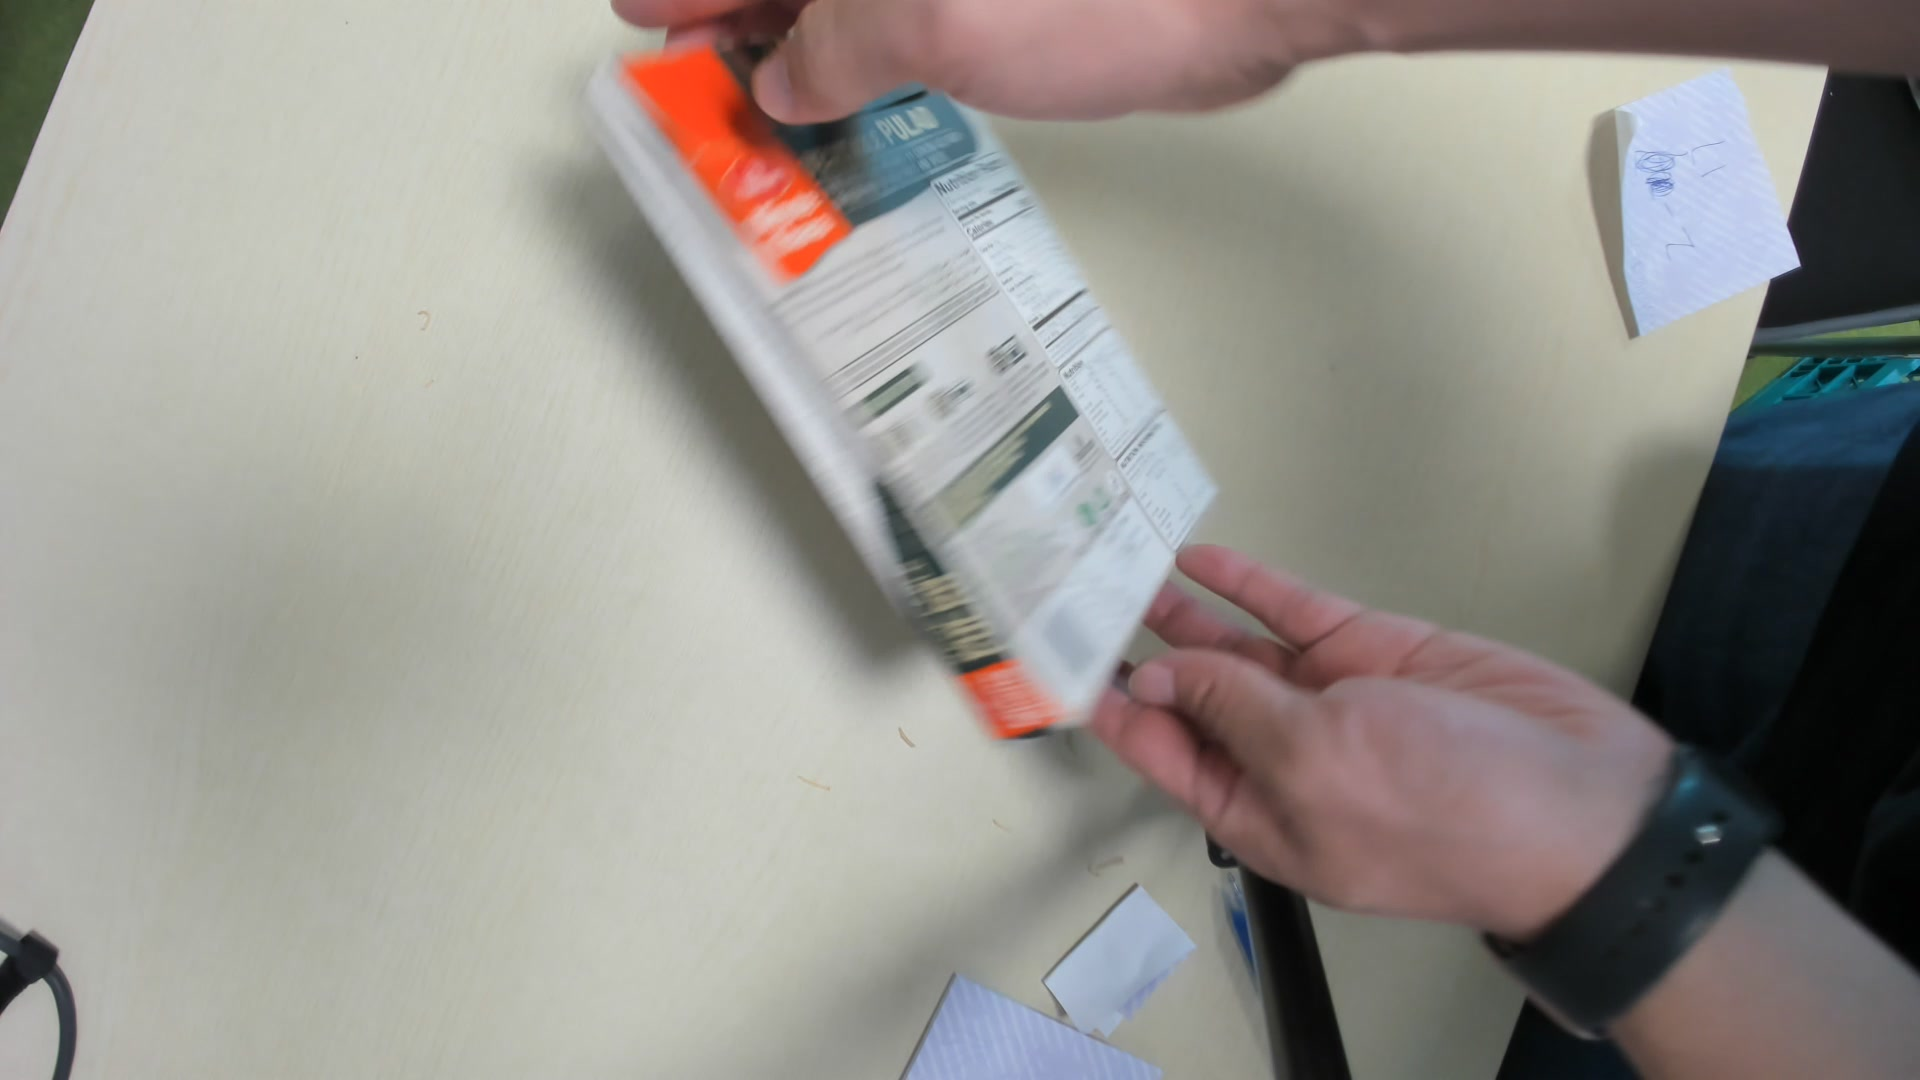InstantMeals_200_299g_NonHalal_NonHealthy: (588, 38, 1209, 735)
